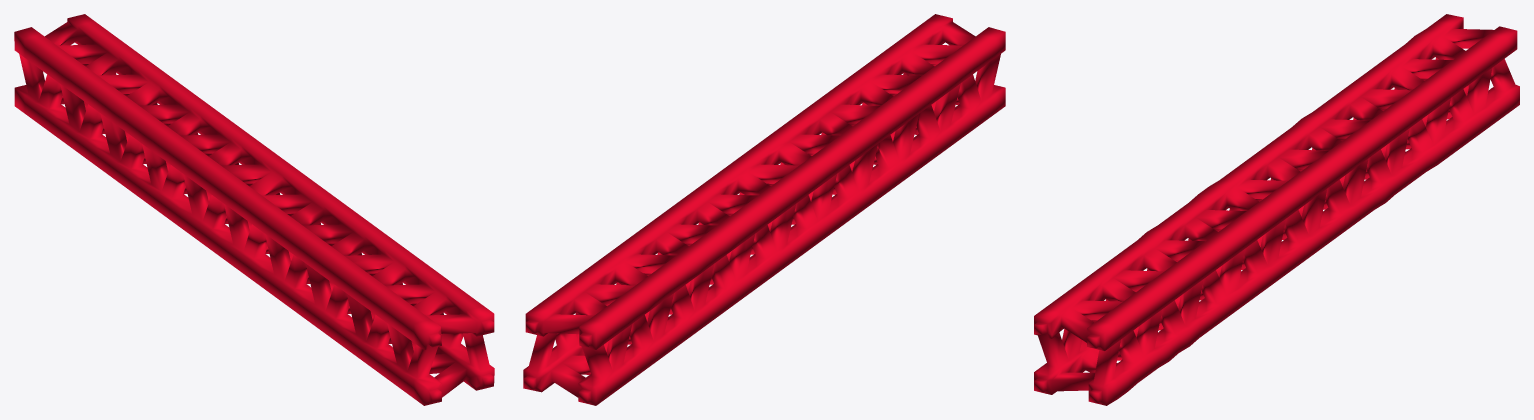
Rendered from Truss.fbx.
3 renders of one model, left to right at view 1: azimuth 30°, elevation 25°; view 2: azimuth 150°, elevation 25°; view 3: azimuth 330°, elevation 25°, orthographic.
Parts seen in each view (by area): view 1: Cube; view 2: Cube; view 3: Cube.
Boxes of the visible parts, left/top/right/bottom form: Cube: left=14, top=14, right=494, bottom=405; Cube: left=523, top=14, right=1005, bottom=405; Cube: left=1034, top=14, right=1519, bottom=405.
Size of the model in its own units: 102 by 10.22 by 10.11.
